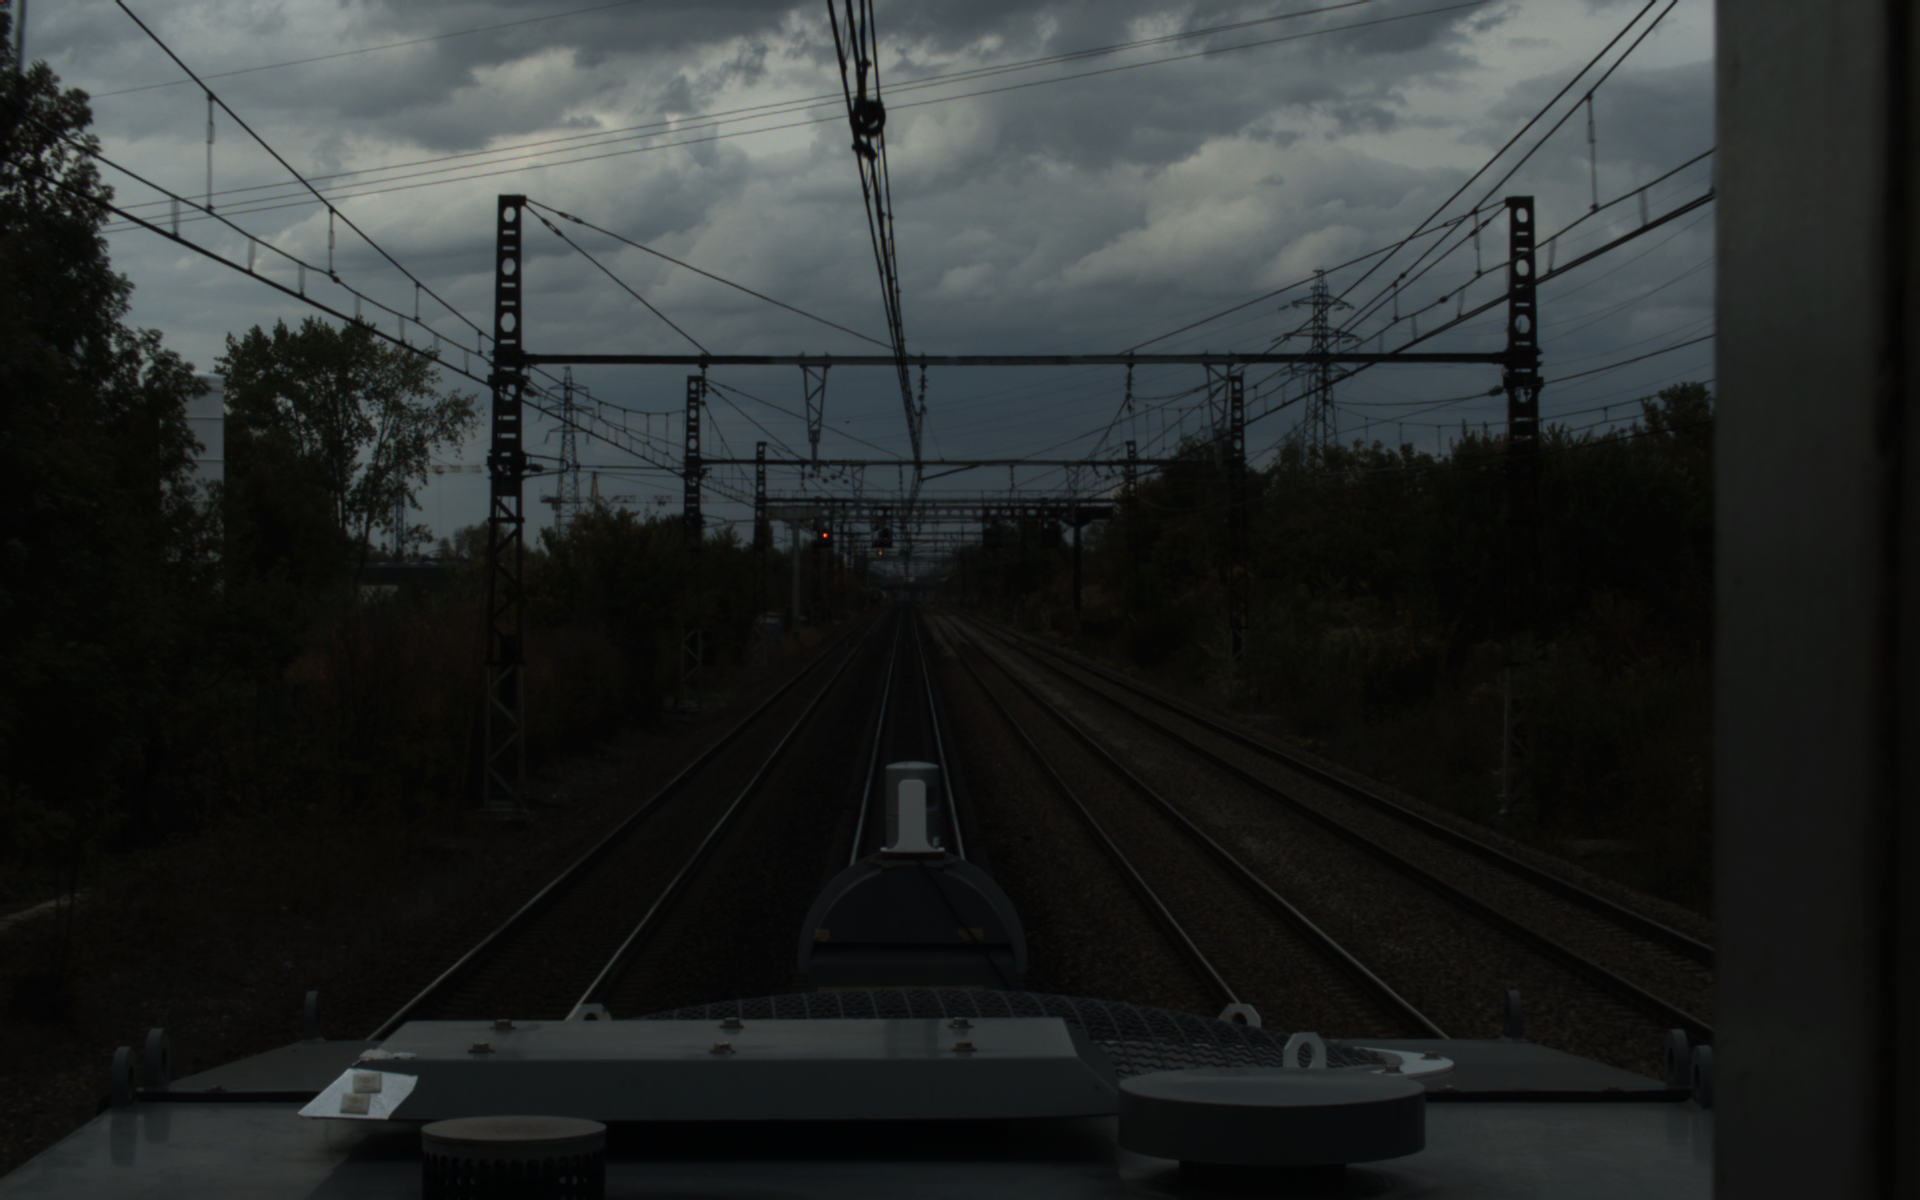Blinking: (878, 525, 892, 543)
Fixed: (817, 525, 832, 543)
